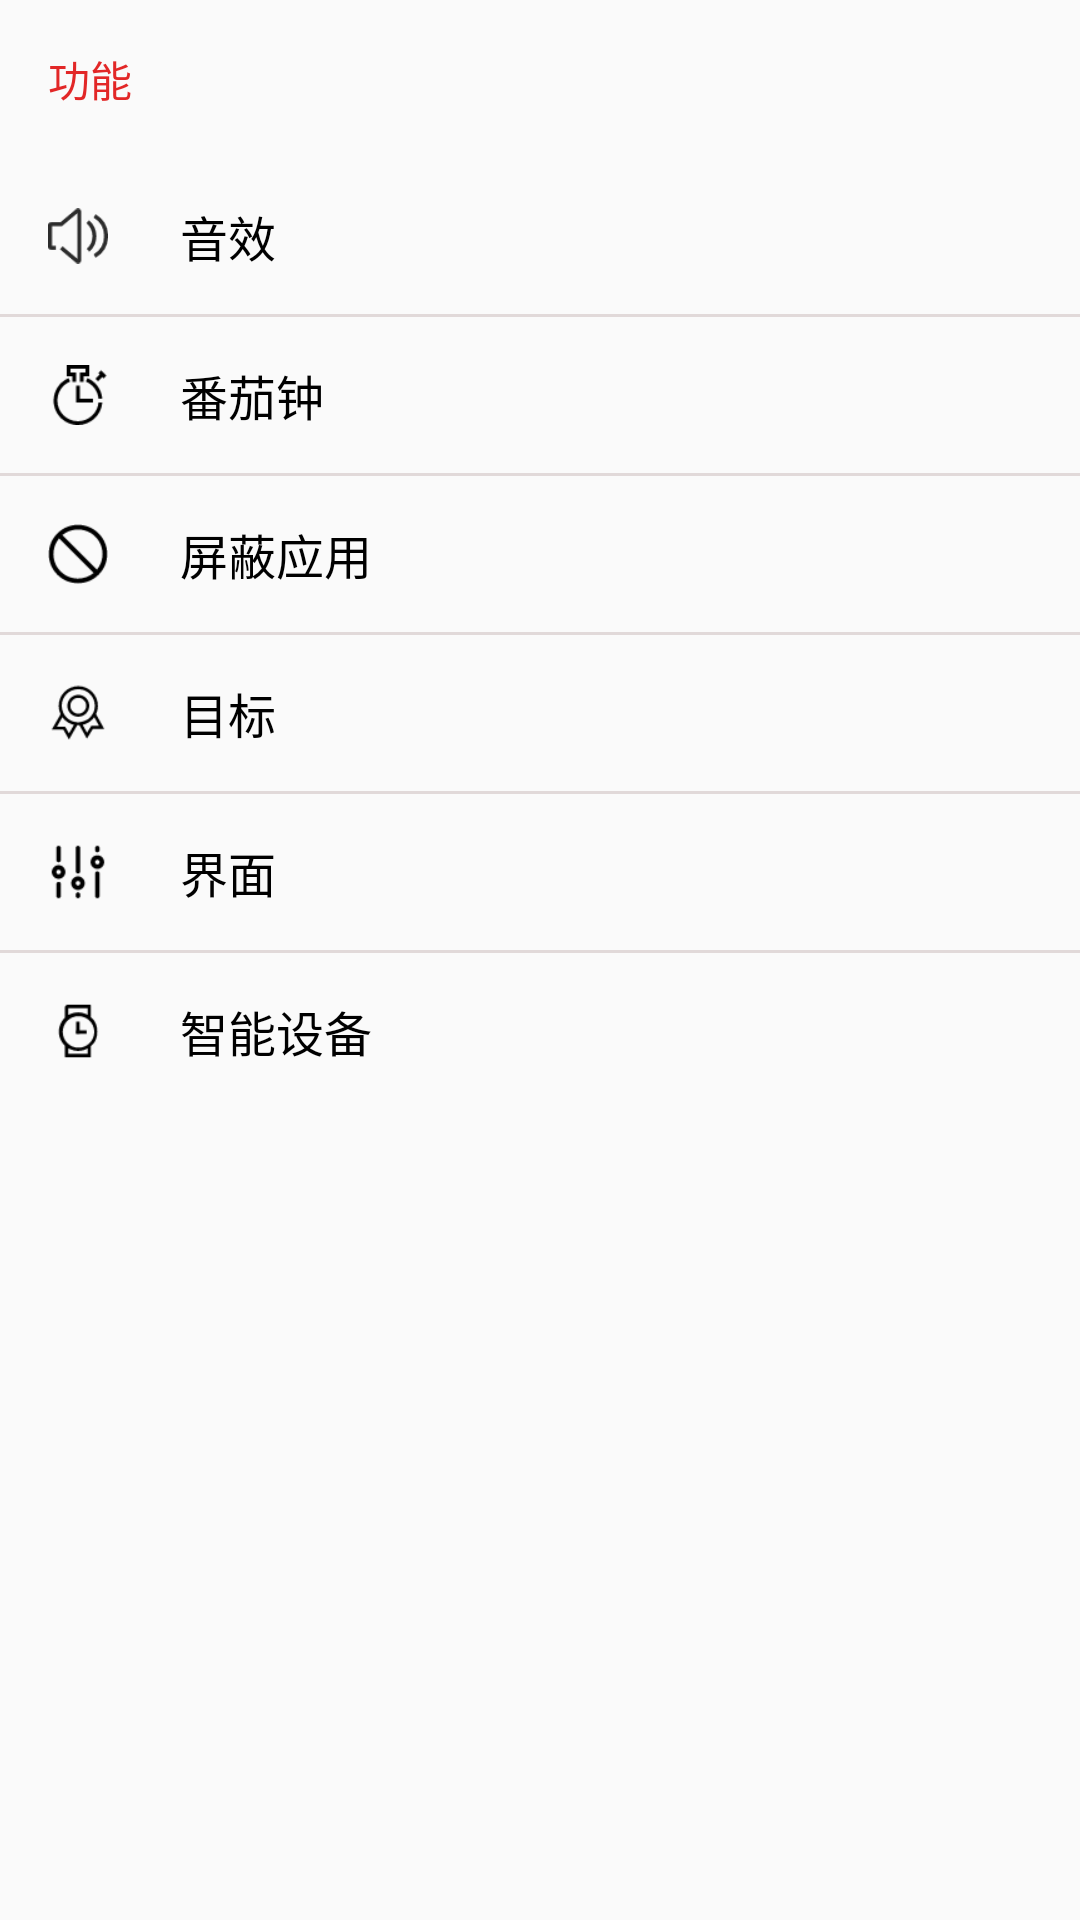

Icon bounding boxes for this 1080px x 1920px phone screenshot, format region(x1, y1, x2, y2):
control: region(51, 845, 105, 899)
count time: region(53, 365, 107, 425)
sound: region(48, 208, 108, 264)
watch: region(58, 1004, 98, 1058)
